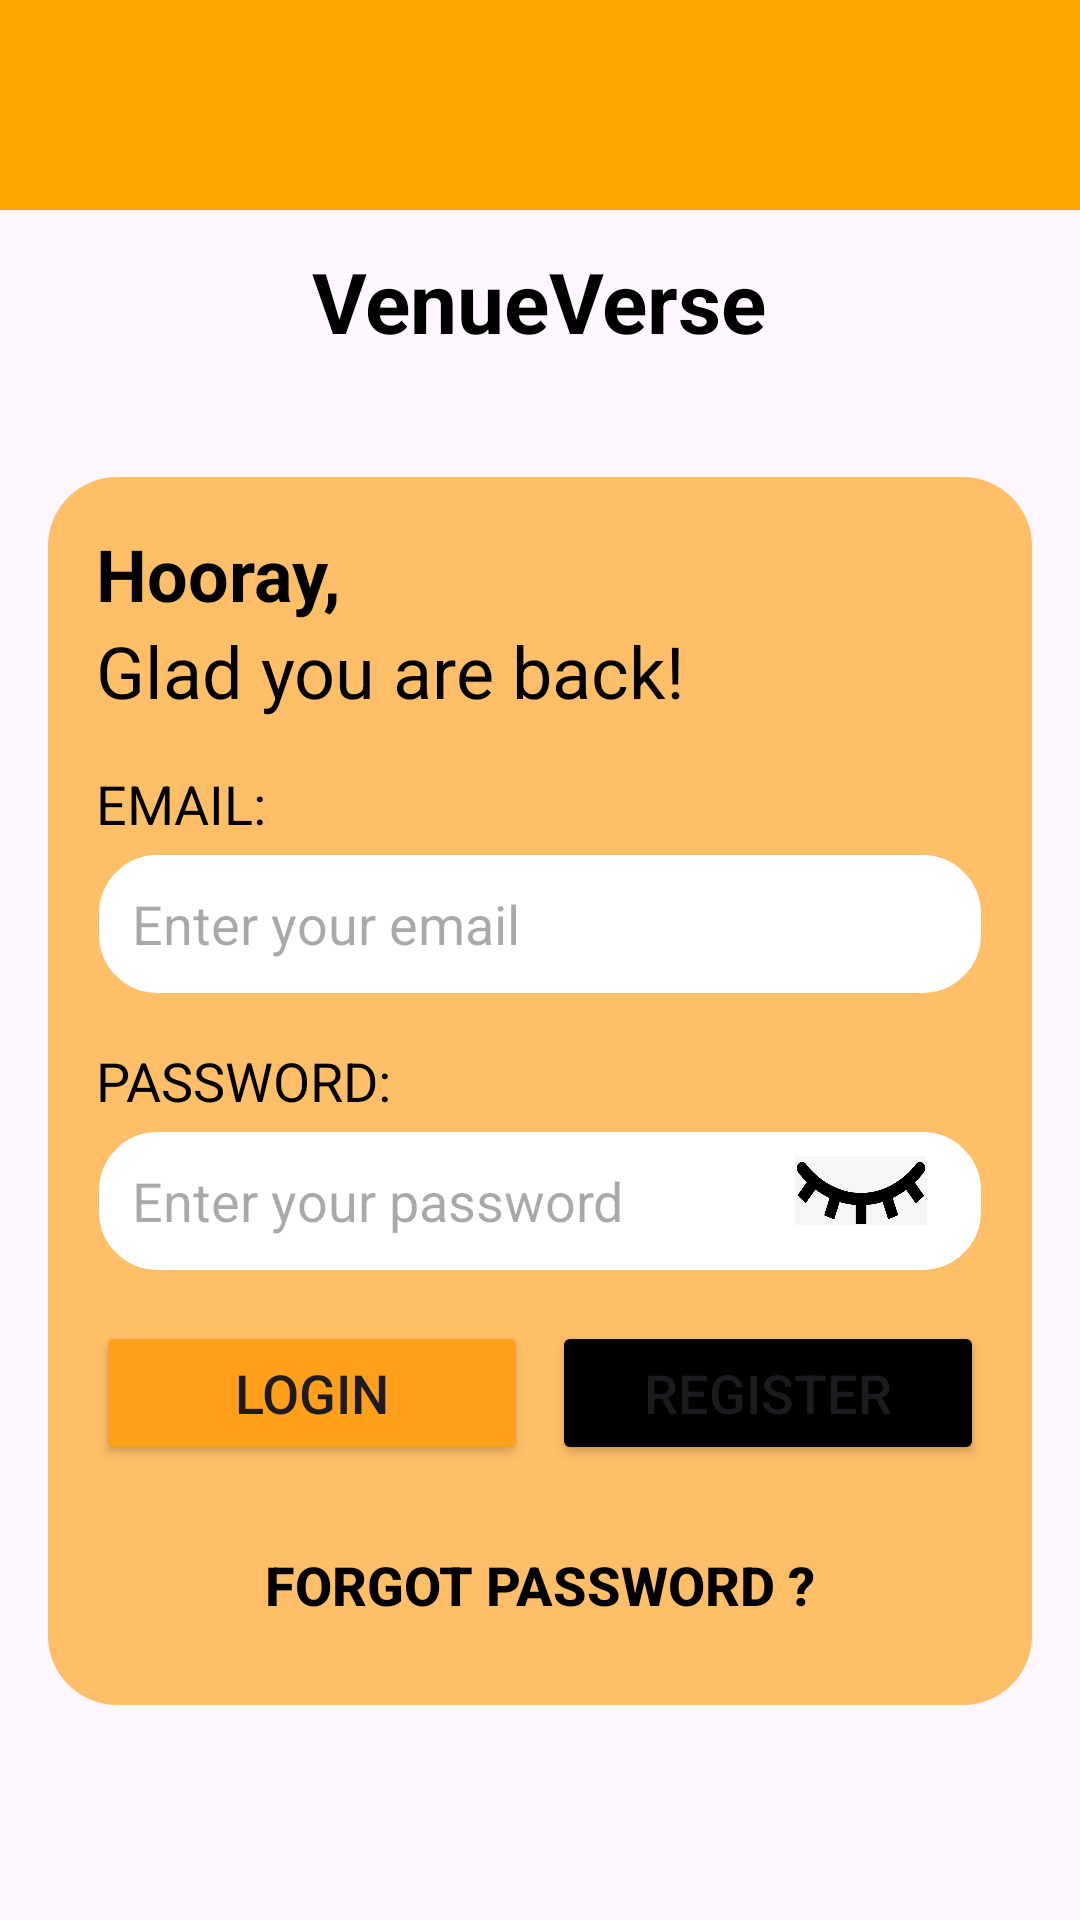

Named icons in this screenshot (1080x1920) and their centers, point (x, y):
eyec: point (861, 1177)
